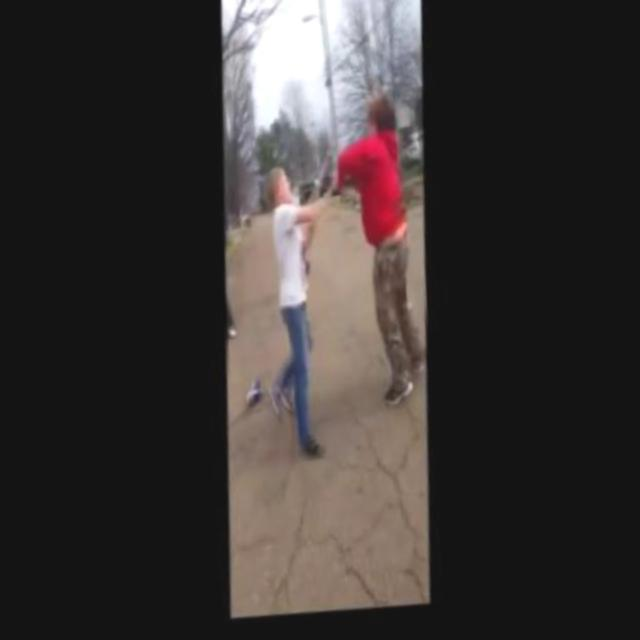fight: (253, 102, 424, 462)
